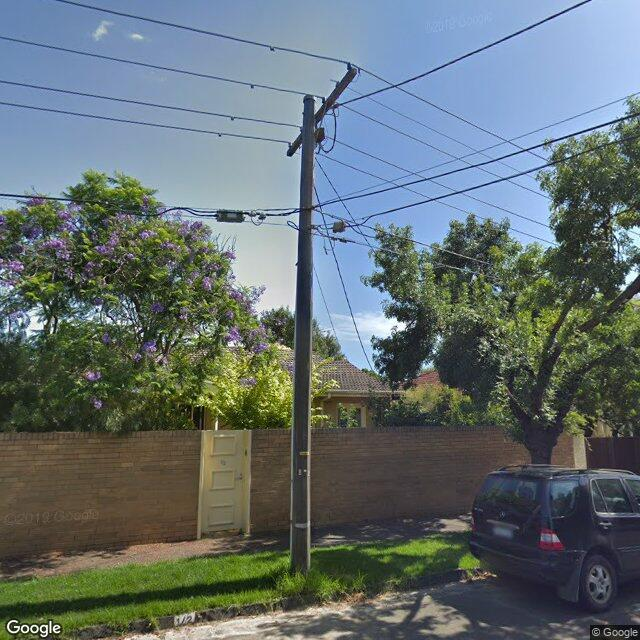crossarm: (218, 47, 361, 157)
timber-pole: (290, 93, 316, 572)
